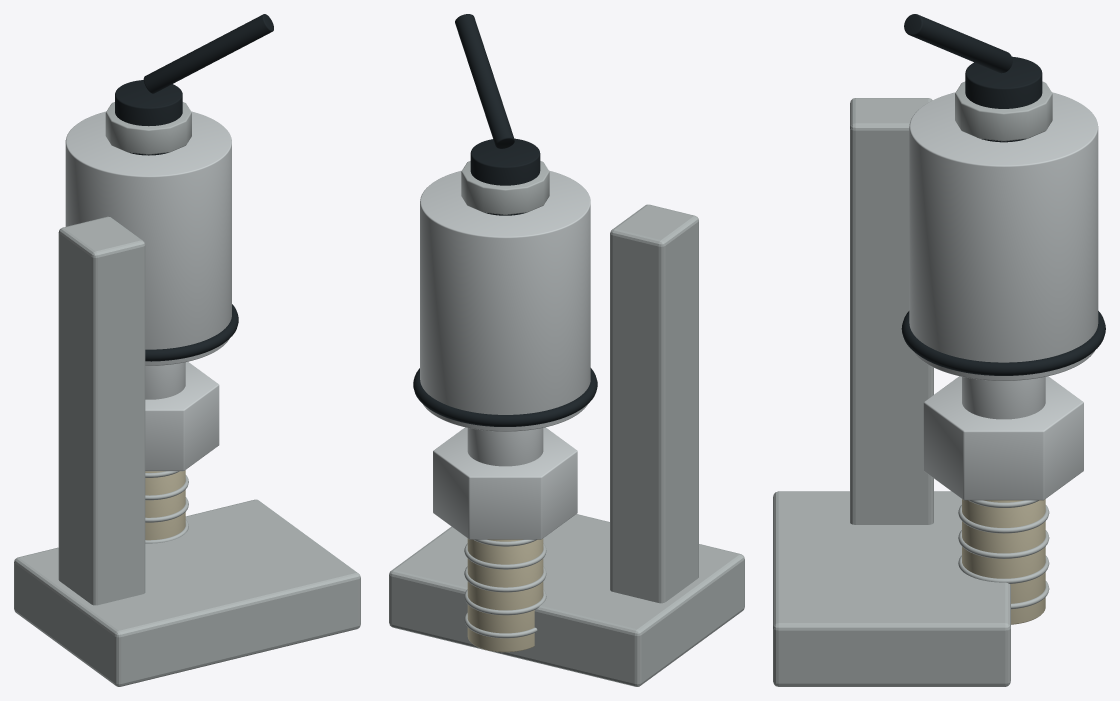
Rendered from pressure_transmitter.glb.
3 views of the same model, side by side, from view 1: azimuth 30°, elevation 25°; view 2: azimuth 150°, elevation 25°; view 3: azimuth 270°, elevation 25° (orthographic). The views are drawn at different scales.
Parts seen in each view (by area): view 1: MOUNT_foot, MOUNT_bracket, TRANSMITTER_housing, HEX_process_fitting, FIELD_cable, FIELD_M12_nut, FIELD_M12_body, PROCESS_thread, SENSOR_neck, HOUSING_collar; view 2: TRANSMITTER_housing, MOUNT_bracket, MOUNT_foot, HEX_process_fitting, PROCESS_thread, FIELD_M12_nut, FIELD_cable, FIELD_M12_body, HOUSING_collar, SENSOR_neck; view 3: TRANSMITTER_housing, MOUNT_foot, MOUNT_bracket, HEX_process_fitting, PROCESS_thread, FIELD_M12_nut, FIELD_M12_body, HOUSING_collar, SENSOR_neck, FIELD_cable, PROCESS_thread_0.15, PROCESS_thread_0.19 (+1 smaller).
Part boxes in pixels (left/top/right/bottom): MOUNT_foot: left=14, top=499, right=360, bottom=686; MOUNT_bracket: left=58, top=216, right=145, bottom=605; TRANSMITTER_housing: left=65, top=111, right=231, bottom=365; HEX_process_fitting: left=145, top=361, right=219, bottom=471; FIELD_cable: left=143, top=14, right=273, bottom=93; FIELD_M12_nut: left=105, top=102, right=191, bottom=154; FIELD_M12_body: left=115, top=80, right=182, bottom=155; PROCESS_thread: left=145, top=470, right=185, bottom=540; SENSOR_neck: left=145, top=362, right=185, bottom=399; HOUSING_collar: left=145, top=304, right=238, bottom=361; TRANSMITTER_housing: left=420, top=170, right=590, bottom=431; MOUNT_bracket: left=610, top=204, right=698, bottom=603; MOUNT_foot: left=389, top=514, right=744, bottom=686; HEX_process_fitting: left=433, top=427, right=577, bottom=539; PROCESS_thread: left=467, top=538, right=543, bottom=652; FIELD_M12_nut: left=461, top=161, right=549, bottom=214; FIELD_cable: left=455, top=14, right=514, bottom=148; FIELD_M12_body: left=470, top=138, right=540, bottom=215; HOUSING_collar: left=413, top=368, right=597, bottom=426; SENSOR_neck: left=467, top=428, right=543, bottom=466; TRANSMITTER_housing: left=909, top=92, right=1098, bottom=380; MOUNT_foot: left=773, top=491, right=1010, bottom=686; MOUNT_bracket: left=850, top=98, right=933, bottom=524; HEX_process_fitting: left=923, top=376, right=1083, bottom=500; PROCESS_thread: left=962, top=499, right=1045, bottom=624; FIELD_M12_nut: left=955, top=81, right=1052, bottom=141; FIELD_M12_body: left=965, top=56, right=1042, bottom=142; HOUSING_collar: left=901, top=311, right=1105, bottom=375; SENSOR_neck: left=962, top=377, right=1045, bottom=419; FIELD_cable: left=904, top=14, right=1012, bottom=73; PROCESS_thread_0.15: left=958, top=530, right=1049, bottom=558; PROCESS_thread_0.19: left=958, top=505, right=1049, bottom=533.
Bounding box in the file's own units: 0.46 × 1.03 × 0.476.
